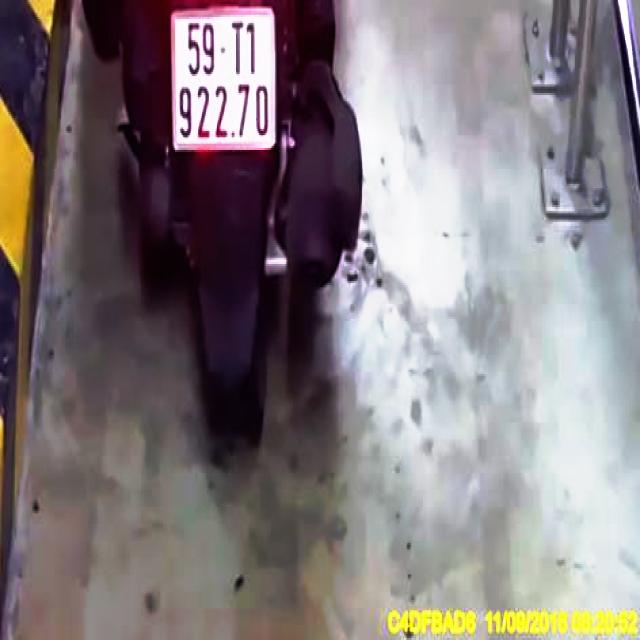license_plate: (175, 9, 277, 149)
